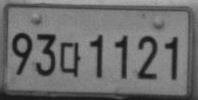1: (161, 35, 183, 80), (87, 33, 108, 78), (112, 34, 133, 79)
2: (136, 34, 158, 79)
3: (35, 33, 56, 76)
9: (10, 32, 33, 76)
다: (59, 41, 81, 76)
